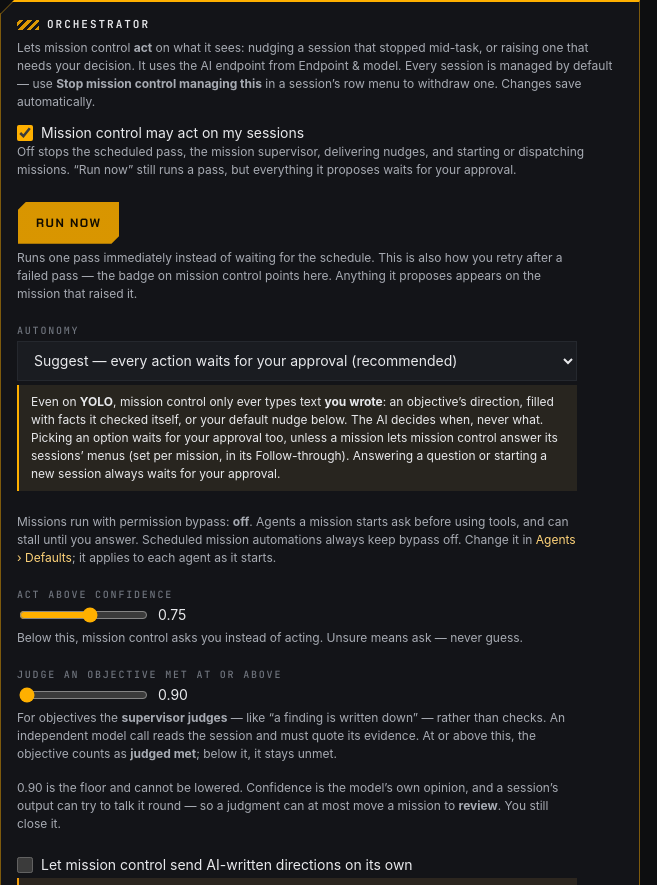
a genuine failure on the NEWEST save still reports itself
Set the slider labelled "Act above confidence" to "0.6" at (52, 615), box [19, 607, 148, 623]
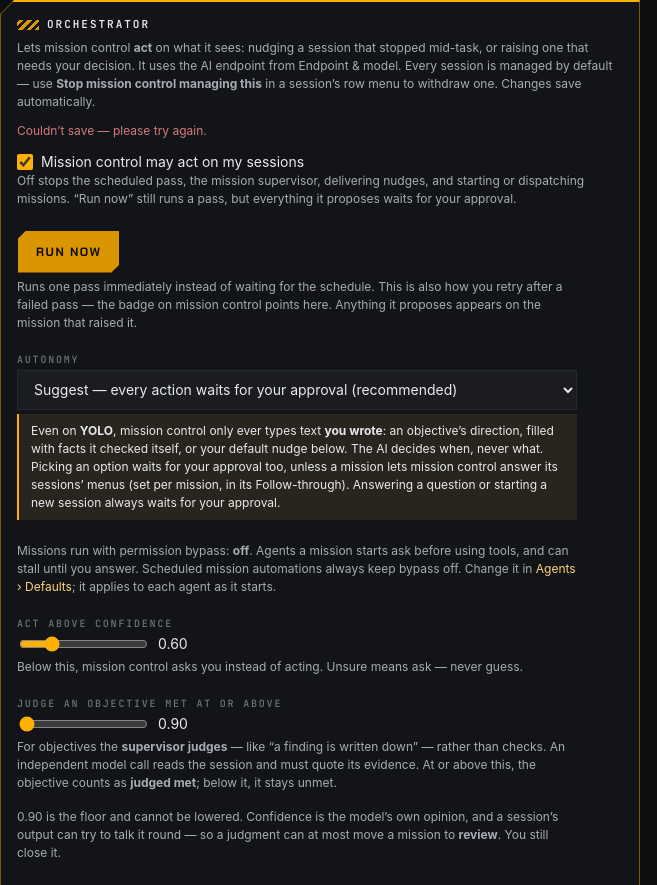
Now the text "Couldn’t save — please try again." is shown, box [17, 123, 207, 138]
